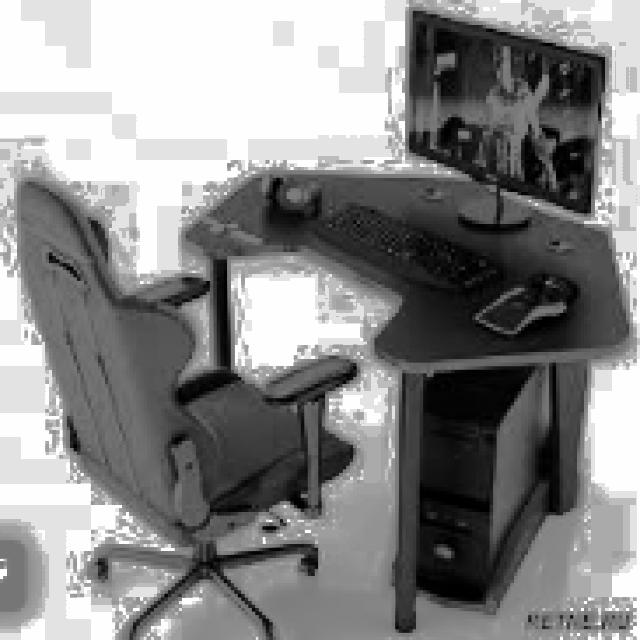book: (14, 174, 357, 636)
table: (178, 167, 630, 629)
